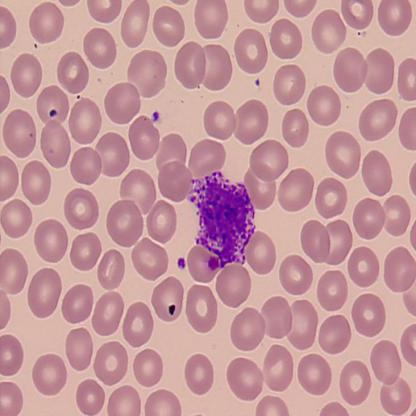Basophil: (183, 169, 258, 270)
